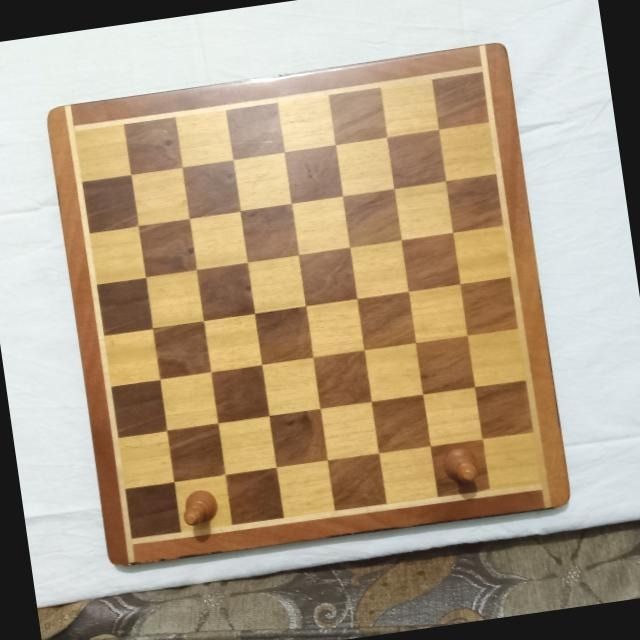white-pawn: (442, 443, 482, 489), (178, 486, 220, 529)
